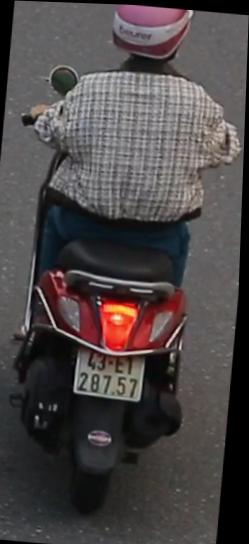LP: (72, 348, 152, 404)
helmet: (105, 3, 192, 79)
